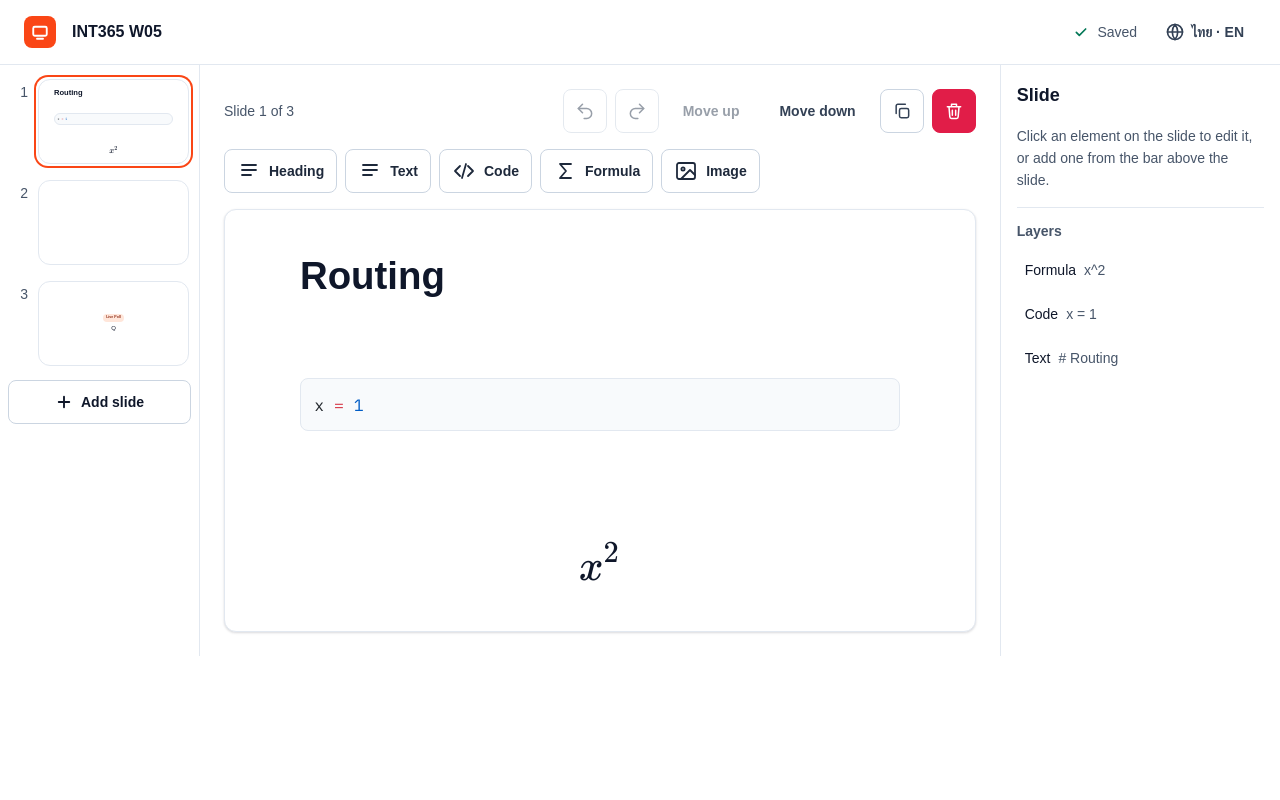
it: DeckEditor: the side panel › explains that activity slides have no canvas yet
This screenshot has width=1280, height=800.
Expected: the heading "INT365 W05" is shown, [72,23,162,40]
Click the button "Live Poll Q" at (114, 323), box [36,279,191,368]
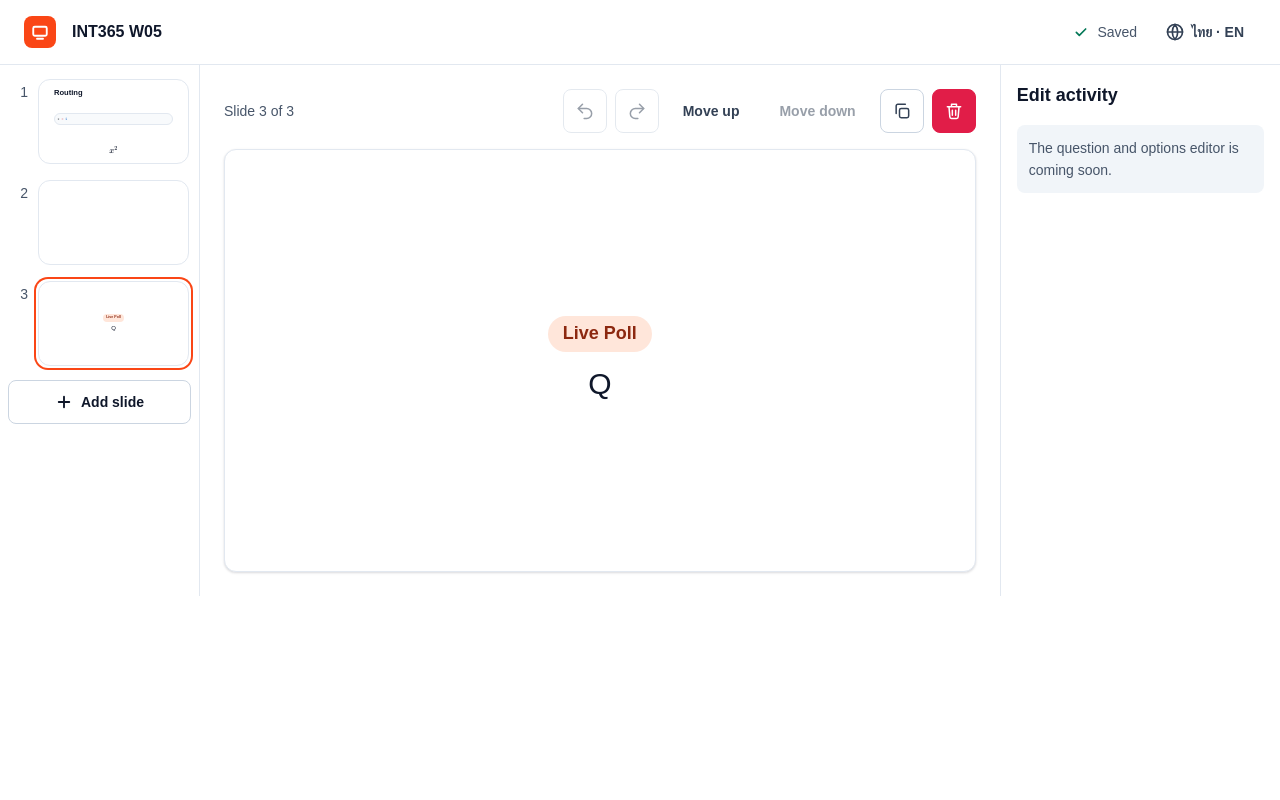
Expected: the text "The question and options editor is coming soon." is shown, [1017,125,1264,193]
Expected: the element "Add to slide" is gone
